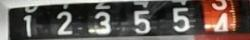digits: (207, 13, 232, 35), (94, 11, 113, 37), (171, 7, 191, 31), (132, 10, 151, 32), (56, 11, 73, 34), (22, 14, 32, 36)
